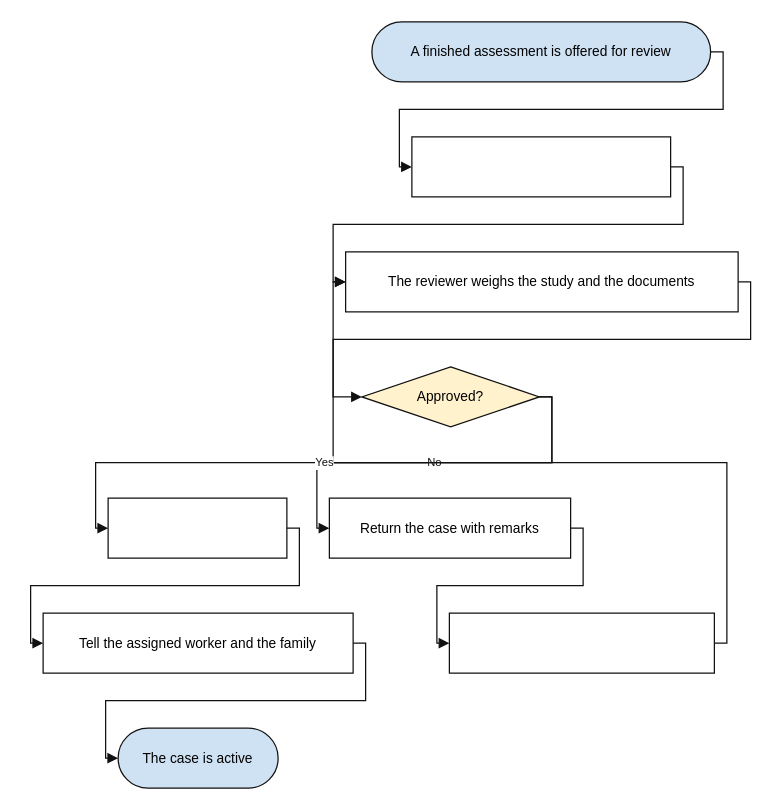
The diagram is 783 pixels wide and 810 high, and some of its shapes have lost their labels. Here are the shapes that lost their labels. From the top down, the box of each, then its label:
(411, 136, 671, 197): Place the case in the review list
(107, 497, 287, 558): Mark the case active
(448, 612, 714, 673): The worker answers the remarks
